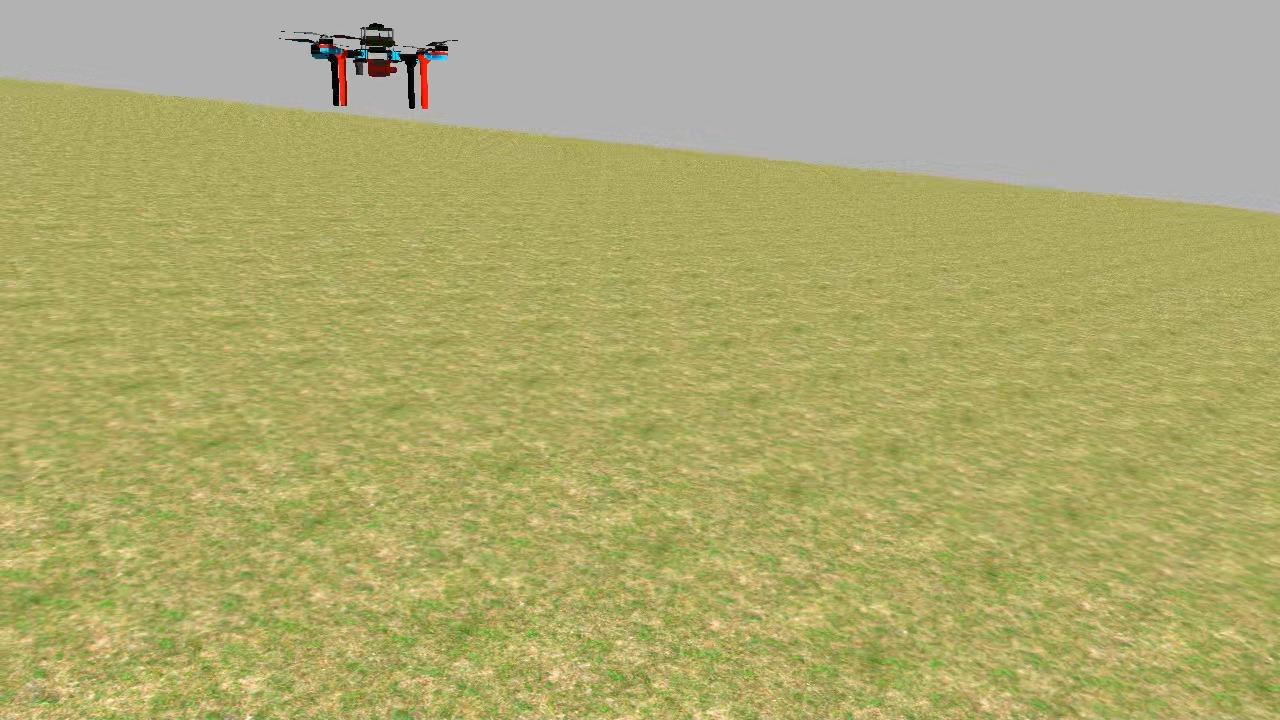UAV: (304, 18, 458, 114)
